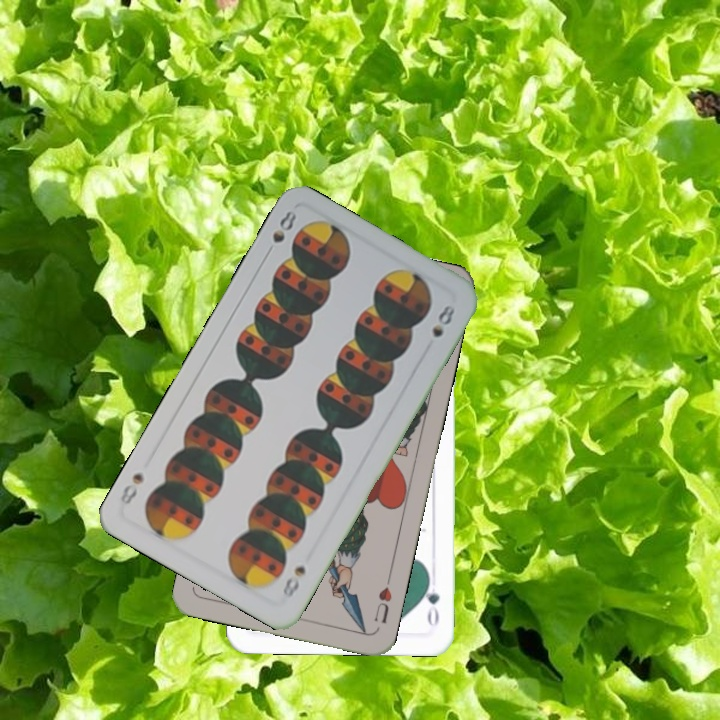GO: (419, 571, 442, 630)
HU: (370, 582, 395, 626)
S8: (261, 206, 299, 260), (278, 561, 309, 602)
